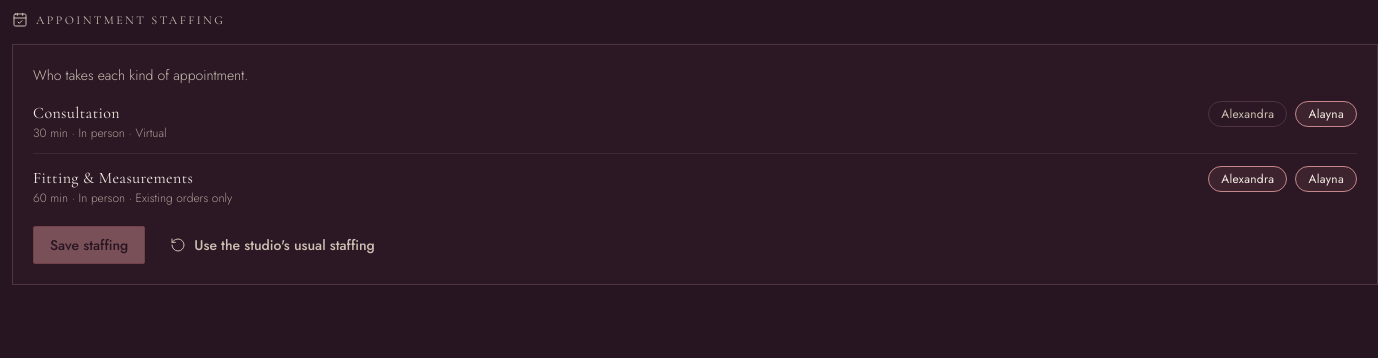
Test case: StudioAppointmentStaff › shows the server's refusal verbatim
Step 1. Click the button with test id "appointment-staff-consultation-alexandra" → (1248, 114), box [1208,101,1287,127]
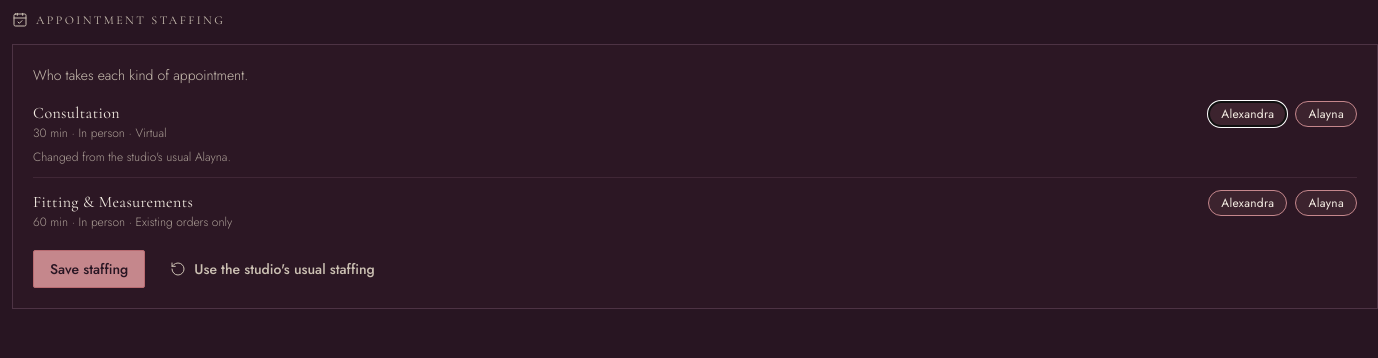
Step 2. Click the button with test id "appointment-staff-save" → (89, 269), box [33,250,145,288]
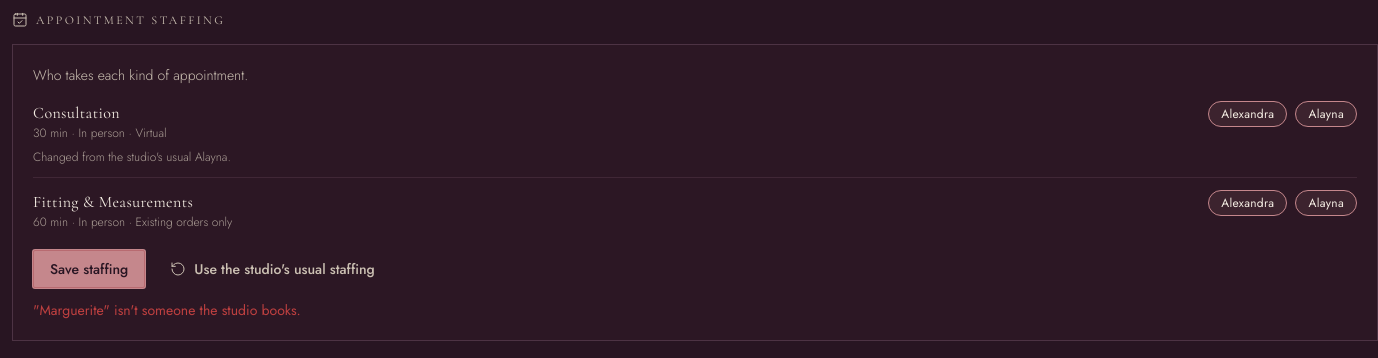
Check: the text with test id "appointment-staff-save-error" shows "Marguerite", box [33,300,301,320]
